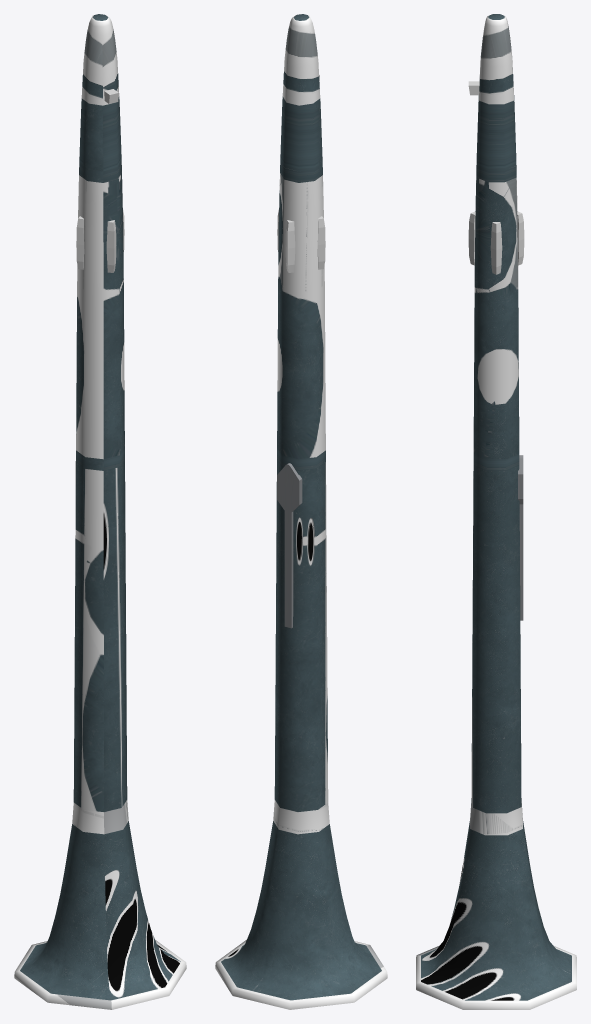
The model's file is goodclarinet.fbx.
3 renders of one model, left to right at view 1: azimuth 30°, elevation 25°; view 2: azimuth 150°, elevation 25°; view 3: azimuth 270°, elevation 25°, orthographic.
Parts seen in each view (by area): view 1: body, 4items; view 2: body, decor, 4items; view 3: body, 4items, decor.
Boxes of the visible parts, <box> form: body: <box>14,14,186,1009</box>; 4items: <box>76,210,124,272</box>; body: <box>215,14,387,1009</box>; decor: <box>277,463,302,628</box>; 4items: <box>277,210,325,272</box>; body: <box>416,14,576,1009</box>; 4items: <box>468,211,524,274</box>; decor: <box>518,455,523,620</box>.
Size of the model in its own units: 69 by 453 by 69.
